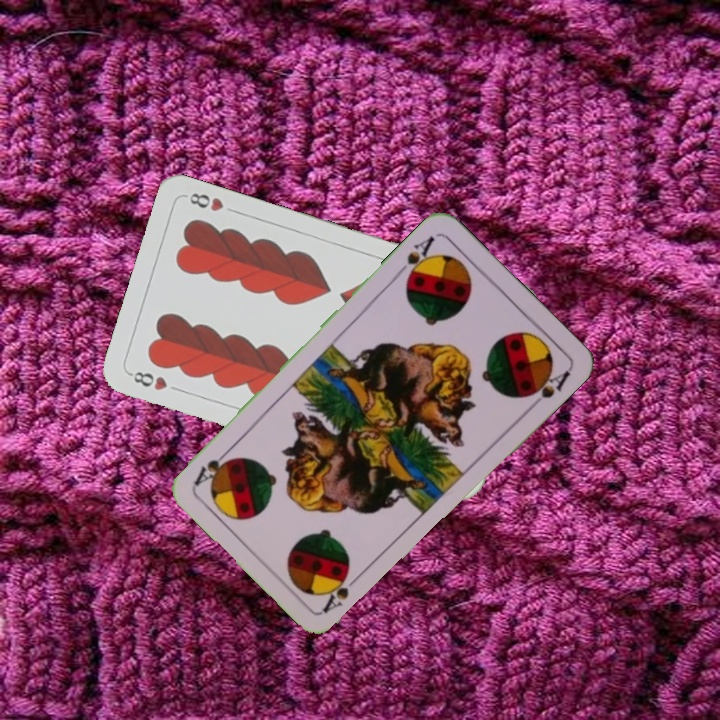H8: (125, 367, 170, 393)
SA: (392, 232, 438, 285), (319, 568, 366, 616)
